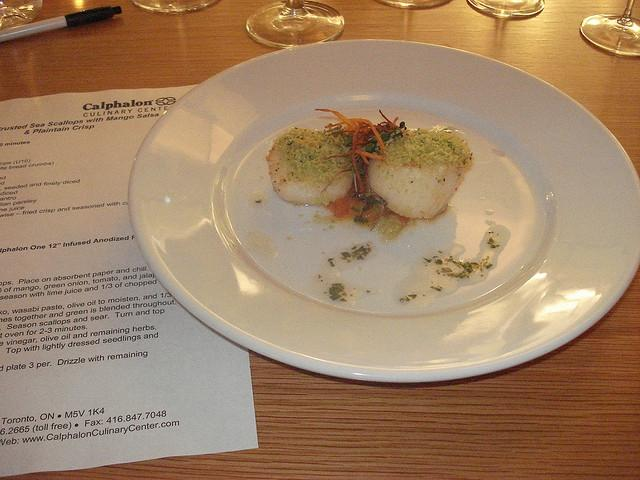carrot: (324, 118, 384, 154), (352, 122, 366, 194), (314, 108, 358, 130), (355, 150, 384, 161), (360, 154, 370, 166), (347, 132, 363, 138), (380, 122, 392, 128), (343, 126, 352, 132)
